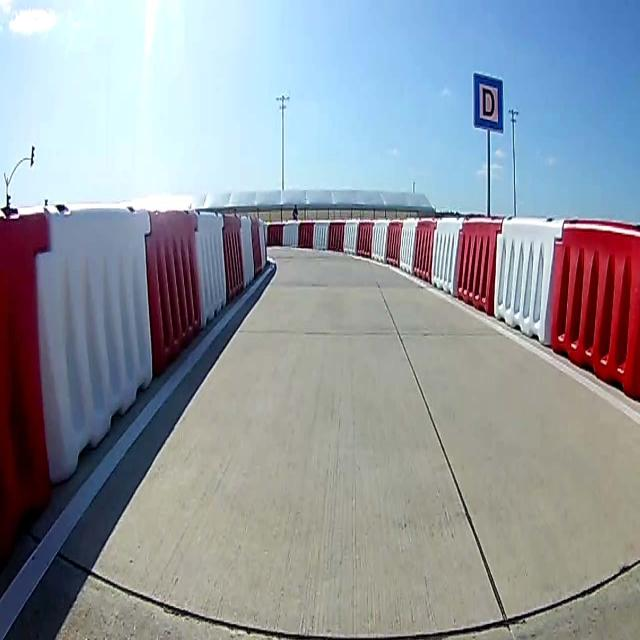durak: (473, 71, 503, 133)
